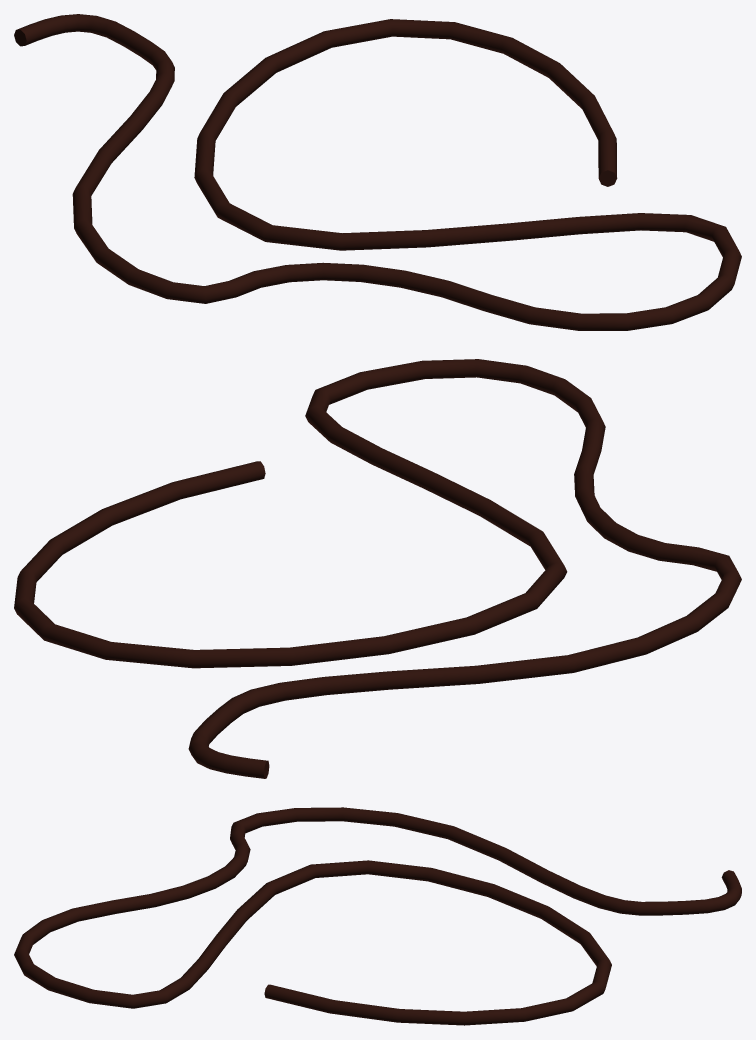
The model's file is BalancoirePart3.fbx.
3 views of the same model, one above another, from view 1: azimuth 30°, elevation 25°; view 2: azimuth 150°, elevation 25°; view 3: azimuth 270°, elevation 25° (orthographic). The views are drawn at different scales.
Visible parts, largest first — view 1: BalancoirePart3; view 2: BalancoirePart3; view 3: BalancoirePart3.
Boxes of the visible parts, x1,y1,x2,y2 form: BalancoirePart3: [14, 14, 741, 330]; BalancoirePart3: [14, 359, 741, 778]; BalancoirePart3: [14, 807, 741, 1025].
Bounding box in the file's own units: 67.71 × 2 × 98.99.
